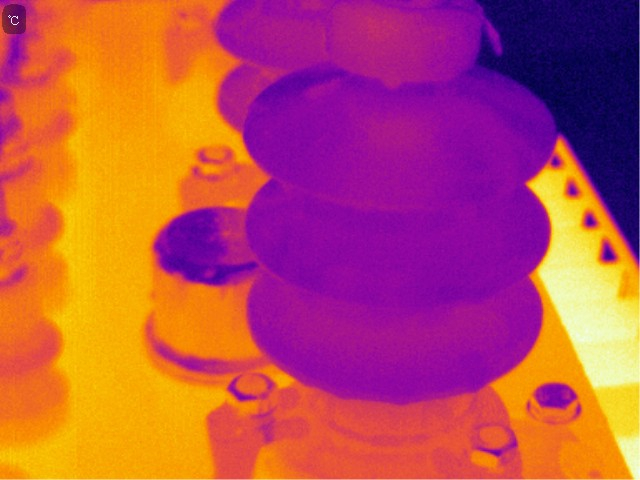Oil: (320, 1, 484, 84), (364, 113, 434, 162), (475, 2, 504, 54), (304, 78, 345, 101)
